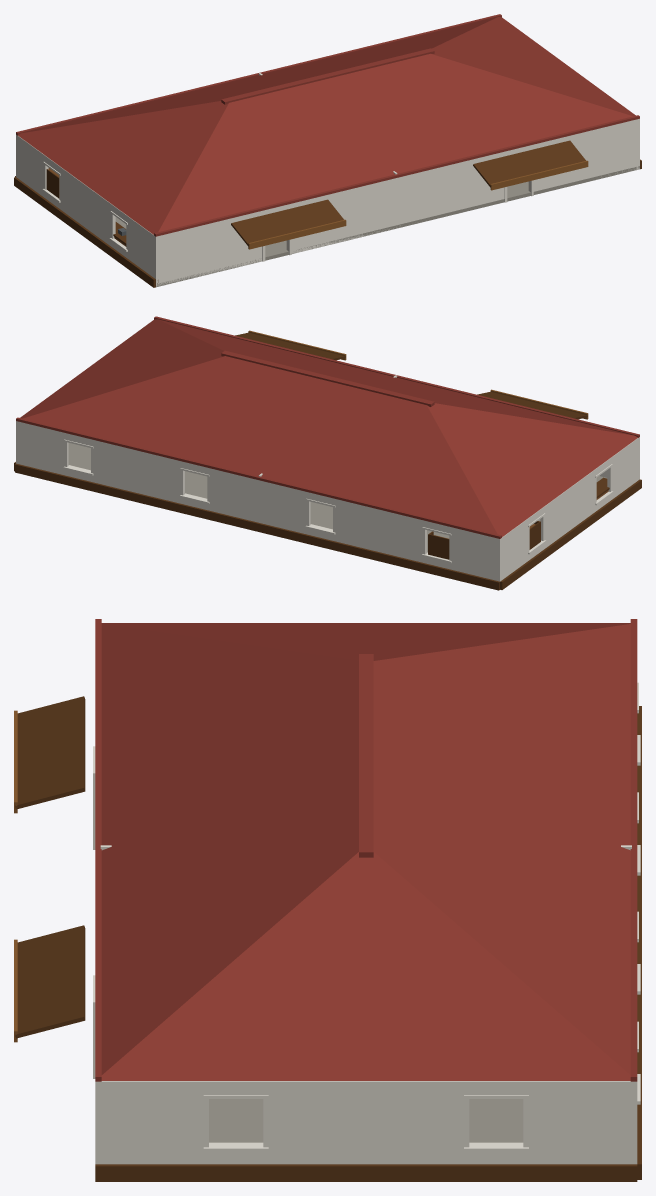
The model's file is shop_row.glb.
3 views of the same model, one above another, from view 1: azimuth 30°, elevation 25°; view 2: azimuth 150°, elevation 25°; view 3: azimuth 270°, elevation 25° (orthographic). The views are drawn at different scales.
Parts seen in each view (by area): view 1: shop_row; view 2: shop_row; view 3: shop_row.
Boxes of the visible parts, box(x1,y1,x2,y2) form: shop_row: box(14, 14, 641, 287); shop_row: box(14, 316, 641, 590); shop_row: box(14, 619, 641, 1181).
Bounding box in the file's own units: 30.26 × 6.04 × 17.38.
